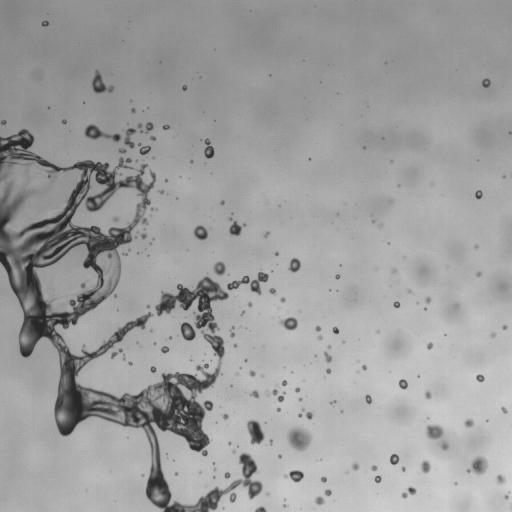droplet: (285, 424, 313, 451), (91, 69, 114, 93), (246, 418, 264, 445), (466, 455, 488, 475), (424, 423, 444, 439), (277, 316, 298, 331), (193, 225, 209, 240), (213, 261, 228, 276), (137, 142, 151, 158), (288, 257, 301, 272), (400, 486, 416, 498), (420, 459, 431, 473), (494, 474, 506, 485), (6, 125, 17, 136), (139, 134, 150, 145), (127, 147, 138, 158), (219, 205, 230, 216), (144, 223, 155, 234), (216, 275, 227, 286), (185, 280, 196, 291), (230, 314, 241, 325), (321, 326, 332, 337), (102, 328, 113, 339), (315, 341, 326, 352), (70, 345, 81, 356), (48, 347, 59, 358), (50, 366, 61, 377), (248, 378, 259, 389), (284, 390, 295, 401), (194, 392, 205, 403), (202, 410, 213, 421), (298, 417, 309, 428), (199, 420, 210, 431), (74, 421, 85, 432), (134, 426, 145, 437), (162, 429, 173, 440), (282, 442, 293, 453), (305, 442, 316, 453), (245, 444, 256, 455), (249, 450, 260, 461), (359, 460, 370, 471), (484, 466, 495, 477), (232, 468, 243, 479), (162, 471, 173, 482), (216, 478, 227, 489), (496, 483, 507, 494), (236, 485, 247, 496), (177, 494, 188, 505), (187, 494, 198, 505), (253, 494, 264, 505), (389, 453, 399, 465), (0, 126, 10, 137), (314, 496, 325, 505), (398, 379, 407, 389), (464, 418, 474, 427), (481, 78, 490, 87), (261, 230, 270, 239), (440, 442, 449, 451), (101, 76, 110, 85), (147, 161, 156, 170), (141, 174, 150, 183), (146, 189, 155, 198), (142, 208, 151, 217), (134, 222, 143, 231), (116, 243, 125, 252), (248, 271, 257, 280), (210, 273, 219, 282), (152, 295, 161, 304), (53, 323, 62, 332), (39, 335, 48, 344), (242, 362, 251, 371), (242, 431, 251, 440), (434, 436, 443, 445), (139, 477, 148, 486), (219, 494, 228, 503), (249, 390, 259, 398), (364, 394, 372, 404), (140, 228, 147, 239), (476, 374, 485, 382), (424, 390, 432, 399), (351, 462, 359, 471), (373, 474, 381, 483), (160, 346, 170, 353), (505, 477, 511, 488), (314, 505, 325, 511), (111, 215, 119, 223), (268, 287, 276, 295), (315, 334, 323, 342), (475, 190, 482, 199), (324, 488, 331, 497), (0, 117, 6, 127), (424, 296, 431, 304), (393, 301, 400, 309), (332, 326, 339, 334), (500, 406, 508, 413), (161, 124, 170, 130), (314, 325, 321, 332), (426, 342, 433, 349), (149, 366, 156, 373), (248, 370, 255, 377), (222, 413, 229, 420), (320, 476, 327, 483), (87, 72, 94, 79), (99, 90, 106, 97), (97, 124, 104, 131), (108, 128, 115, 135), (119, 131, 126, 138), (129, 134, 136, 141), (96, 135, 103, 142), (85, 136, 92, 143), (106, 137, 113, 144), (117, 139, 124, 146), (132, 145, 139, 152), (41, 153, 48, 160), (78, 155, 85, 162), (133, 162, 140, 169), (106, 165, 113, 172), (283, 259, 290, 266), (334, 266, 341, 273), (220, 284, 227, 291), (275, 290, 282, 297), (105, 295, 112, 302), (209, 299, 216, 306), (96, 302, 103, 309), (149, 306, 156, 313), (129, 314, 136, 321), (17, 315, 24, 322), (77, 315, 84, 322), (118, 320, 125, 327), (213, 329, 220, 336), (230, 336, 237, 343), (221, 341, 228, 348), (322, 361, 329, 368), (326, 361, 333, 368), (214, 375, 221, 382), (49, 396, 56, 403), (464, 412, 471, 419), (251, 414, 258, 421), (428, 418, 435, 425), (259, 424, 266, 431), (441, 425, 448, 432), (420, 426, 427, 433), (52, 427, 59, 434), (178, 435, 185, 442), (261, 436, 268, 443), (158, 448, 165, 455), (235, 448, 242, 455), (194, 450, 201, 457), (232, 454, 239, 461), (253, 458, 260, 465), (428, 460, 435, 467), (395, 461, 402, 468), (465, 461, 472, 468), (415, 464, 422, 471), (469, 470, 476, 477), (419, 471, 426, 478), (249, 474, 256, 481), (285, 476, 292, 483), (225, 477, 232, 484), (321, 482, 328, 489), (206, 484, 213, 491), (260, 485, 267, 492), (200, 489, 207, 496), (143, 497, 150, 504), (41, 20, 49, 26), (329, 400, 337, 406), (224, 471, 230, 479), (504, 491, 510, 499), (213, 506, 222, 511), (388, 197, 394, 204), (475, 270, 481, 277), (280, 296, 286, 303), (325, 367, 331, 374), (371, 464, 377, 471), (118, 148, 126, 153), (150, 206, 158, 211), (406, 288, 414, 293), (377, 222, 383, 228), (246, 301, 252, 307), (490, 332, 496, 338), (361, 364, 367, 370), (294, 387, 300, 393), (0, 263, 4, 272), (182, 84, 187, 91), (149, 135, 156, 140), (157, 189, 164, 194), (121, 251, 128, 256), (390, 268, 397, 273), (334, 274, 341, 279), (454, 302, 459, 309), (276, 406, 281, 413), (61, 119, 67, 124), (220, 200, 225, 206), (371, 218, 377, 223), (473, 244, 479, 249), (273, 251, 279, 256), (240, 310, 245, 316), (502, 324, 507, 330), (400, 466, 405, 472), (269, 438, 273, 445), (507, 323, 511, 330), (507, 406, 511, 413), (281, 507, 288, 511), (128, 361, 133, 366), (488, 83, 493, 88), (88, 86, 93, 91), (481, 86, 486, 91), (112, 87, 117, 92), (128, 103, 133, 108), (130, 123, 135, 128), (23, 124, 28, 129), (80, 127, 85, 132), (135, 127, 140, 132), (164, 128, 169, 133), (148, 129, 153, 134), (30, 130, 35, 135), (3, 132, 8, 137), (201, 143, 206, 148), (124, 144, 129, 149), (26, 146, 31, 151), (213, 149, 218, 154), (146, 151, 151, 156), (201, 155, 206, 160), (48, 158, 53, 163), (92, 158, 97, 163), (100, 159, 105, 164), (69, 160, 74, 165), (54, 161, 59, 166), (126, 161, 131, 166), (143, 167, 148, 172), (151, 167, 156, 172), (154, 174, 159, 179), (152, 182, 157, 187), (160, 193, 165, 198), (149, 201, 154, 206), (145, 204, 150, 209), (146, 216, 151, 221), (228, 220, 233, 225), (236, 220, 241, 225), (372, 222, 377, 227), (191, 223, 196, 228), (203, 224, 208, 229), (240, 226, 245, 231), (129, 230, 134, 235), (206, 231, 211, 236), (231, 233, 236, 238), (267, 233, 272, 238), (145, 236, 150, 241), (259, 236, 264, 241), (203, 237, 208, 242), (197, 238, 202, 243), (146, 244, 151, 249), (119, 254, 124, 259), (297, 256, 302, 261), (214, 257, 219, 262), (219, 257, 224, 262), (120, 263, 125, 268), (298, 265, 303, 270), (477, 266, 482, 271), (223, 268, 228, 273), (262, 268, 267, 273), (287, 269, 292, 274), (295, 269, 300, 274), (471, 269, 476, 274), (119, 273, 124, 278), (267, 273, 272, 278), (197, 275, 202, 280), (236, 275, 241, 280), (478, 275, 483, 280), (227, 278, 232, 283), (117, 280, 122, 285), (258, 280, 263, 285), (245, 282, 250, 287), (9, 290, 14, 295), (251, 290, 256, 295), (267, 292, 272, 297), (407, 292, 412, 297), (11, 293, 16, 298), (284, 296, 289, 301), (430, 297, 435, 302), (221, 298, 226, 303), (278, 301, 283, 306), (423, 302, 428, 307), (243, 305, 248, 310), (210, 310, 215, 315), (287, 312, 292, 317), (282, 314, 287, 319), (296, 320, 301, 325), (504, 320, 509, 325), (319, 323, 324, 328), (497, 323, 502, 328), (310, 324, 315, 329), (280, 325, 285, 330), (113, 326, 118, 331), (289, 328, 294, 333), (486, 329, 491, 334), (315, 330, 320, 335), (331, 332, 336, 337), (494, 334, 499, 339), (313, 338, 318, 343), (424, 338, 429, 343), (97, 341, 102, 346), (422, 342, 427, 347), (322, 346, 327, 351), (87, 348, 92, 353), (15, 349, 20, 354), (327, 350, 332, 355), (78, 351, 83, 356), (17, 353, 22, 358), (320, 354, 325, 359), (330, 358, 335, 363), (240, 361, 245, 366), (357, 365, 362, 370), (251, 366, 256, 371), (218, 367, 223, 372), (321, 369, 326, 374), (254, 372, 259, 377), (246, 374, 251, 379), (405, 377, 410, 382), (277, 378, 282, 383), (475, 380, 480, 385), (406, 384, 411, 389), (281, 385, 286, 390), (395, 385, 400, 390), (249, 386, 254, 391), (268, 386, 273, 391), (429, 389, 434, 394), (257, 390, 262, 395), (296, 391, 301, 396), (430, 392, 435, 397), (420, 393, 425, 398), (273, 394, 278, 399), (250, 395, 255, 400), (329, 395, 334, 400), (425, 398, 430, 403), (361, 399, 366, 404), (276, 401, 281, 406), (504, 404, 509, 409), (211, 405, 216, 410), (304, 407, 309, 412), (222, 408, 227, 413), (301, 411, 306, 416), (311, 414, 316, 419), (101, 418, 106, 423), (224, 418, 229, 423), (472, 418, 477, 423), (107, 420, 112, 425), (113, 422, 118, 427), (460, 422, 465, 427), (118, 424, 123, 429), (124, 425, 129, 430), (466, 426, 471, 431), (207, 434, 212, 439), (144, 440, 149, 445), (157, 440, 162, 445), (230, 442, 235, 447), (253, 442, 258, 447), (145, 443, 150, 448), (447, 444, 452, 449), (191, 449, 196, 454), (393, 449, 398, 454), (440, 449, 445, 454), (396, 451, 401, 456), (385, 455, 390, 460), (372, 460, 377, 465), (367, 462, 372, 467), (292, 465, 297, 470), (297, 466, 302, 471), (357, 466, 362, 471), (348, 467, 353, 472), (373, 470, 378, 475), (499, 470, 504, 475), (144, 473, 149, 478), (299, 478, 304, 483), (316, 478, 321, 483), (410, 483, 415, 488), (232, 487, 237, 492), (403, 488, 408, 493), (414, 490, 419, 495), (396, 492, 401, 497), (406, 492, 411, 497), (321, 493, 326, 498), (329, 493, 334, 498), (400, 497, 405, 502), (312, 502, 317, 507), (319, 503, 324, 508), (263, 504, 268, 509), (232, 448, 236, 454), (0, 190, 3, 197), (131, 108, 135, 113), (269, 269, 274, 273), (113, 293, 117, 298), (149, 327, 153, 332), (375, 329, 380, 333), (189, 356, 193, 361), (277, 454, 282, 458), (453, 481, 458, 485), (265, 492, 270, 496), (282, 504, 288, 507), (189, 159, 193, 163), (502, 174, 506, 178), (164, 178, 168, 182), (430, 182, 434, 186), (146, 304, 150, 308), (233, 343, 237, 347), (261, 344, 265, 348), (356, 359, 360, 363), (298, 397, 302, 401), (396, 184, 401, 187), (259, 374, 264, 377), (317, 458, 322, 461), (198, 469, 201, 474), (508, 493, 511, 498), (362, 146, 366, 149), (151, 156, 155, 159), (308, 157, 311, 161), (336, 212, 339, 216), (128, 247, 131, 251), (416, 301, 419, 305), (424, 307, 427, 311), (136, 341, 140, 344), (153, 341, 156, 345), (244, 358, 247, 362), (238, 366, 242, 369), (235, 372, 239, 375), (417, 374, 420, 378), (340, 409, 343, 413), (485, 419, 489, 422), (228, 441, 231, 445), (141, 473, 144, 477), (174, 472, 178, 475), (283, 497, 286, 501), (0, 116, 2, 121), (384, 61, 387, 64), (129, 99, 132, 102), (508, 131, 511, 134), (135, 159, 138, 162), (390, 160, 393, 163), (179, 175, 182, 178), (278, 204, 281, 207), (152, 237, 155, 240), (403, 256, 406, 259), (227, 273, 230, 276), (277, 306, 280, 309), (238, 325, 241, 328), (443, 333, 446, 336), (342, 340, 345, 343), (203, 352, 206, 355), (314, 354, 317, 357), (290, 370, 293, 373), (356, 370, 359, 373), (302, 379, 305, 382), (230, 384, 233, 387), (345, 471, 348, 474), (46, 18, 49, 21), (44, 25, 47, 28), (268, 70, 271, 73), (271, 73, 274, 76), (266, 75, 269, 78), (484, 75, 487, 78), (480, 77, 483, 80), (479, 82, 482, 85), (179, 87, 182, 90), (184, 89, 187, 92), (84, 99, 87, 102), (79, 100, 82, 103), (48, 103, 51, 106), (82, 103, 85, 106), (44, 105, 47, 108), (128, 107, 131, 110), (134, 107, 137, 110), (143, 107, 146, 110), (48, 108, 51, 111), (60, 116, 63, 119), (65, 117, 68, 120), (5, 118, 8, 121), (215, 118, 218, 121), (58, 119, 61, 122), (146, 119, 149, 122), (65, 121, 68, 124), (4, 122, 7, 125), (161, 122, 164, 125), (62, 123, 65, 126), (159, 126, 162, 129), (507, 133, 510, 136), (209, 142, 212, 145), (362, 142, 365, 145), (365, 145, 368, 148), (360, 148, 363, 151), (138, 153, 141, 156), (305, 155, 308, 158), (122, 157, 125, 160), (208, 157, 211, 160), (310, 157, 313, 160), (192, 158, 195, 161), (305, 158, 308, 161), (186, 159, 189, 162), (192, 161, 195, 164), (188, 162, 191, 165), (179, 172, 182, 175), (499, 173, 502, 176), (505, 175, 508, 178), (167, 179, 170, 182), (396, 180, 399, 183), (473, 189, 476, 192), (163, 191, 166, 194), (481, 191, 484, 194), (175, 193, 178, 196), (472, 193, 475, 196), (480, 195, 483, 198), (172, 196, 175, 199), (473, 196, 476, 199), (217, 199, 220, 202), (223, 202, 226, 205), (230, 208, 233, 211), (152, 209, 155, 212), (228, 213, 231, 216), (371, 216, 374, 219), (368, 220, 371, 223), (375, 220, 378, 223), (245, 221, 248, 224), (267, 228, 270, 231), (153, 234, 156, 237), (386, 238, 389, 241), (151, 240, 154, 243), (383, 241, 386, 244), (386, 244, 389, 247), (272, 250, 275, 253), (127, 251, 130, 254), (145, 251, 148, 254), (278, 252, 281, 255), (148, 255, 151, 258), (275, 255, 278, 258), (338, 260, 341, 263), (341, 263, 344, 266), (272, 267, 275, 270), (120, 268, 123, 271), (337, 271, 340, 274), (243, 272, 246, 275), (333, 272, 336, 275), (338, 277, 341, 280), (334, 278, 337, 281), (327, 285, 330, 288), (325, 288, 328, 291), (331, 288, 334, 291), (411, 288, 414, 291), (111, 291, 114, 294), (328, 291, 331, 294), (394, 298, 397, 301), (244, 301, 247, 304), (251, 302, 254, 305), (399, 303, 402, 306), (391, 305, 394, 308), (420, 307, 423, 310), (238, 310, 241, 313), (242, 313, 245, 316), (228, 325, 231, 328), (337, 326, 340, 329), (245, 328, 248, 331), (329, 328, 332, 331), (231, 329, 234, 332), (338, 329, 341, 332), (503, 329, 506, 332), (443, 330, 446, 333), (446, 333, 449, 336), (15, 334, 18, 337), (236, 343, 239, 346), (234, 346, 237, 349), (430, 347, 433, 350), (312, 356, 315, 359), (241, 357, 244, 360), (246, 358, 249, 361), (365, 363, 368, 366), (236, 368, 239, 371), (293, 369, 296, 372), (330, 370, 333, 373), (478, 371, 481, 374), (482, 373, 485, 376), (419, 375, 422, 378), (473, 376, 476, 379), (397, 377, 400, 380), (483, 377, 486, 380), (286, 380, 289, 383), (481, 380, 484, 383), (228, 381, 231, 384), (232, 383, 235, 386), (226, 384, 229, 387), (299, 388, 302, 391), (401, 388, 404, 391), (370, 395, 373, 398), (301, 398, 304, 401), (335, 398, 338, 401), (282, 399, 285, 402), (365, 402, 368, 405), (369, 402, 372, 405), (340, 406, 343, 409), (273, 407, 276, 410), (280, 408, 283, 411), (343, 409, 346, 412), (499, 409, 502, 412), (337, 411, 340, 414), (505, 412, 508, 415), (227, 413, 230, 416), (297, 416, 300, 419), (484, 416, 487, 419), (220, 417, 223, 420), (484, 421, 487, 424), (225, 440, 228, 443), (271, 440, 274, 443), (225, 443, 228, 446), (279, 451, 282, 454), (206, 452, 209, 455), (274, 454, 277, 457), (281, 454, 284, 457), (201, 455, 204, 458), (316, 456, 319, 459), (276, 457, 279, 460), (174, 459, 177, 462), (388, 462, 391, 465), (214, 463, 217, 466), (210, 464, 213, 467), (404, 467, 407, 470), (174, 468, 177, 471), (399, 469, 402, 472), (177, 471, 180, 474), (464, 471, 467, 474), (200, 472, 203, 475), (221, 472, 224, 475), (324, 474, 327, 477), (209, 475, 212, 478), (380, 475, 383, 478), (326, 478, 329, 481), (451, 479, 454, 482), (456, 479, 459, 482), (372, 480, 375, 483), (379, 480, 382, 483), (451, 483, 454, 486), (455, 484, 458, 487), (330, 489, 333, 492), (504, 491, 507, 494), (501, 495, 504, 498), (234, 498, 237, 501), (284, 500, 287, 503), (284, 506, 287, 509), (201, 359, 205, 361), (48, 106, 50, 109), (126, 122, 128, 125), (381, 137, 384, 139), (149, 242, 151, 245), (387, 242, 390, 244), (186, 248, 188, 251), (137, 252, 140, 254), (147, 254, 149, 257), (328, 289, 331, 291), (66, 294, 69, 296), (183, 316, 186, 318), (283, 366, 286, 368), (323, 376, 326, 378), (219, 405, 221, 408), (426, 417, 429, 419), (213, 475, 215, 478), (222, 506, 224, 509), (509, 128, 511, 131), (509, 489, 511, 492), (159, 61, 161, 63), (269, 74, 271, 76), (83, 101, 85, 103), (477, 159, 479, 161), (176, 197, 178, 199), (276, 263, 278, 265), (339, 264, 341, 266), (336, 289, 338, 291), (116, 309, 118, 311), (215, 421, 217, 423), (264, 421, 266, 423), (167, 193, 168, 195), (144, 248, 146, 249), (210, 359, 211, 361), (237, 445, 238, 447), (173, 459, 174, 461)
ligament: (227, 268, 268, 295), (83, 124, 121, 142), (200, 138, 214, 159), (283, 470, 304, 482), (323, 344, 332, 363), (229, 325, 235, 338), (254, 506, 267, 511), (212, 461, 217, 471), (164, 336, 172, 341), (165, 452, 168, 459), (509, 502, 511, 511), (149, 214, 154, 216), (244, 327, 247, 329)
